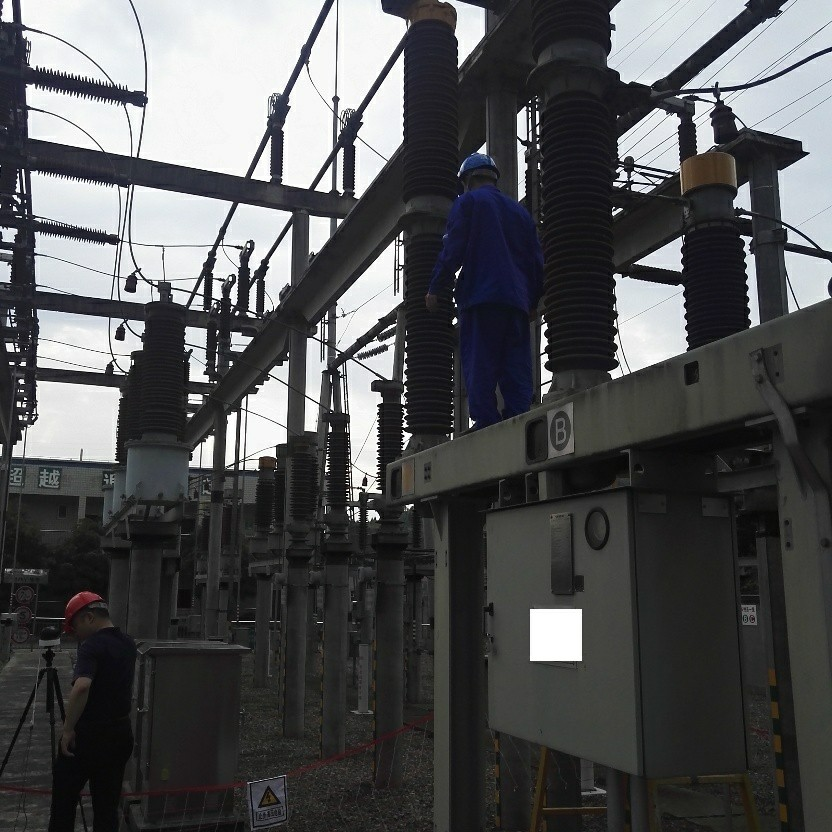hat: (61, 587, 115, 644), (455, 146, 505, 195)
